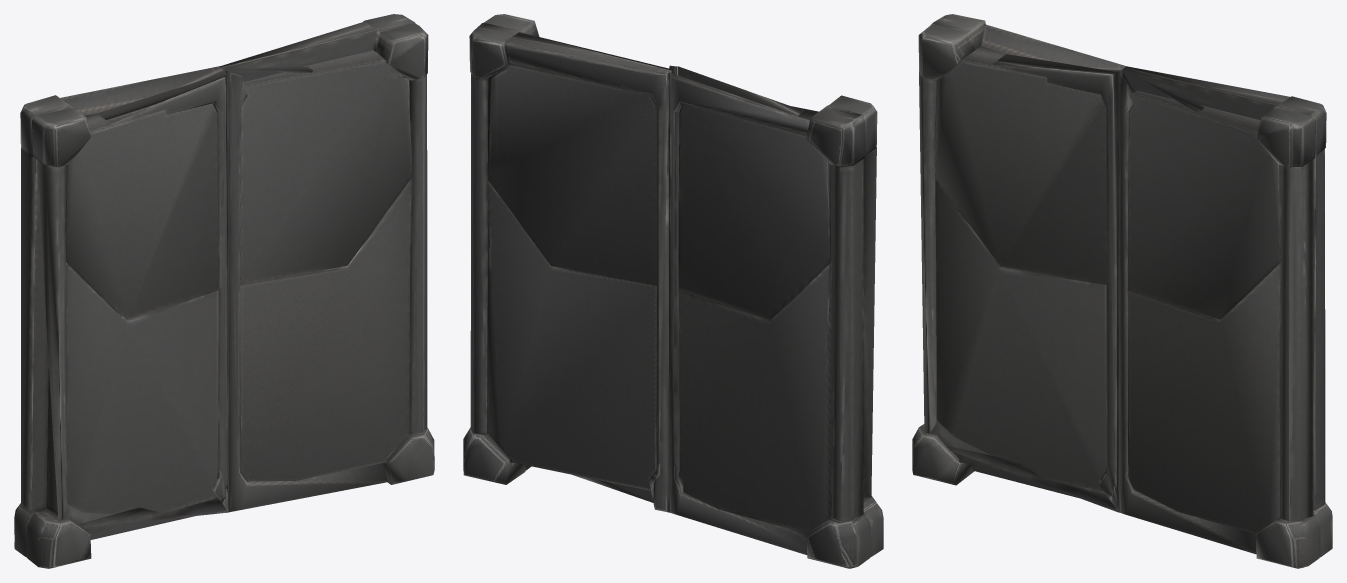
The model's file is Double Wall.glb.
3 renders of one model, left to right at view 1: azimuth 30°, elevation 25°; view 2: azimuth 150°, elevation 25°; view 3: azimuth 330°, elevation 25°, orthographic.
Bounding box in the file's own units: 1.88 × 2 × 0.3418.
1 material, 1 textured.
